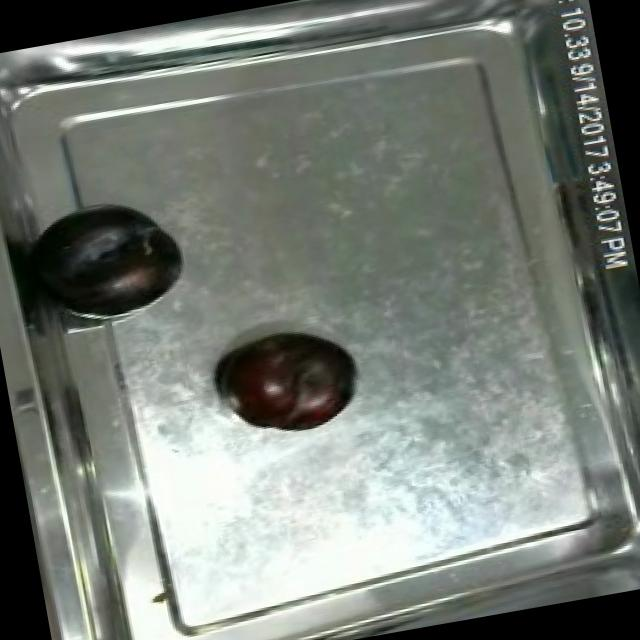Fruit: (32, 186, 198, 328), (205, 312, 370, 444)
